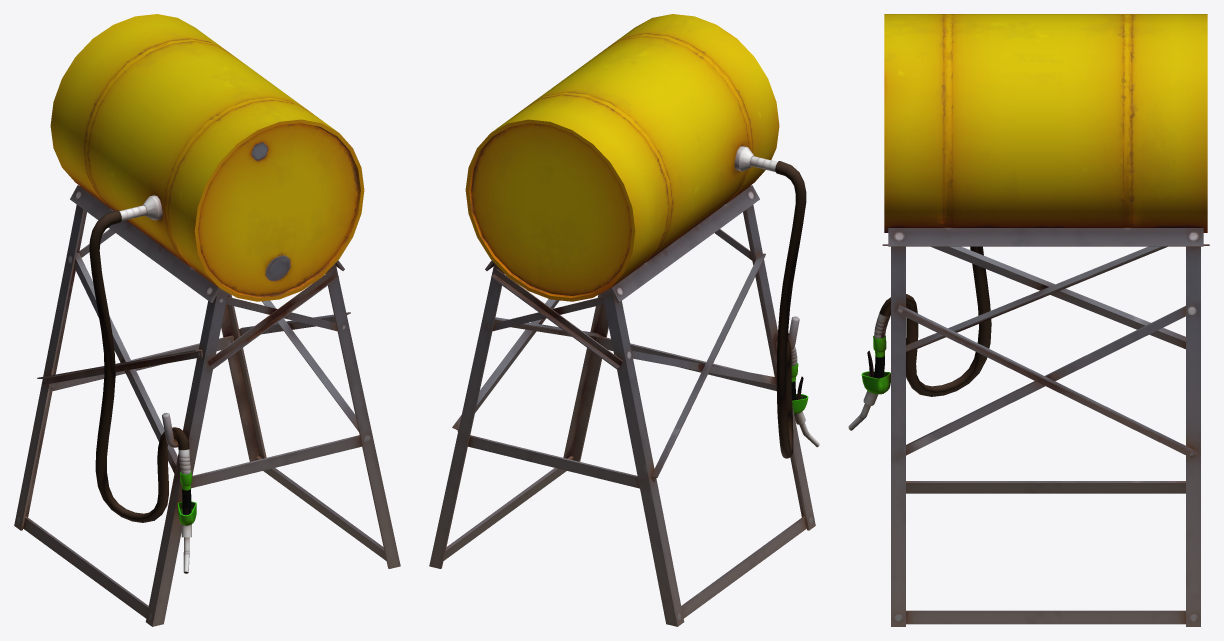
File: FuelTank02.FBX
3 views of the same model, side by side, from view 1: azimuth 30°, elevation 25°; view 2: azimuth 150°, elevation 25°; view 3: azimuth 270°, elevation 25° (orthographic). The views are drawn at different scales.
Visible parts, largest first — view 1: FuelTank02; view 2: FuelTank02; view 3: FuelTank02.
Part boxes in pixels (<box>): FuelTank02: <box>14,14,400,626</box>; FuelTank02: <box>429,14,819,626</box>; FuelTank02: <box>848,14,1209,626</box>.
Size of what is drawn, in the model's own units: 1.81 by 3 by 1.84.
